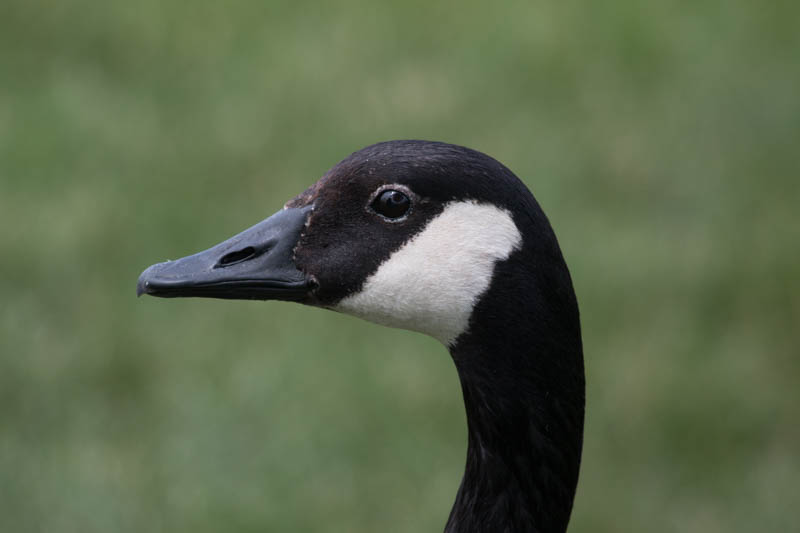goose-head: (136, 139, 583, 352)
